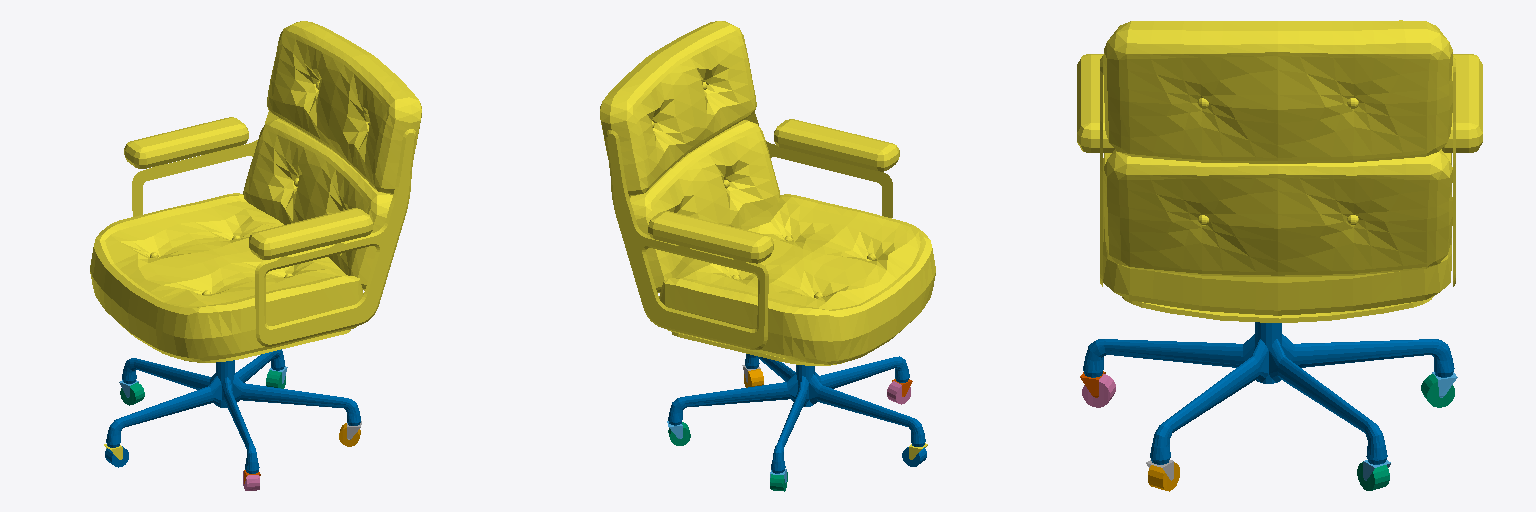
The robot description file, URDF, robot "partnet_60cbc688b57f8b5446407779dbd69b2d":
<?xml version="1.0" encoding="utf-8"?>
<robot name="partnet_60cbc688b57f8b5446407779dbd69b2d">
 <link name="base"/>
 <link name="link_0">
  <visual name="caster_yoke-34">
   <origin xyz="0.48027050000000004 0 -0.3712065"/>
   <geometry>
    <mesh filename="textured_objs/original-9.obj"/>
   </geometry>
  </visual>
  <collision>
   <geometry>
    <mesh filename="cvx_objs/link_0.obj"/>
   </geometry>
  </collision>
 </link>
 <joint name="joint_0" type="continuous">
  <origin xyz="-0.48027050000000004 0 0.3712065"/>
  <axis xyz="0 1 0"/>
  <child link="link_0"/>
  <parent link="link_11"/>
 </joint>
 <link name="link_1">
  <visual name="wheel-35">
   <origin xyz="0.5257931586547613 0.7801555 -0.17527927410023608"/>
   <geometry>
    <mesh filename="textured_objs/original-15.obj"/>
   </geometry>
  </visual>
  <collision>
   <geometry>
    <mesh filename="cvx_objs/link_1.obj"/>
   </geometry>
  </collision>
 </link>
 <joint name="joint_1" type="continuous">
  <origin xyz="-0.04552265865476124 -0.7801555 -0.1959272258997639"/>
  <axis xyz="0.3162519565277374 0 0.9486752342041918"/>
  <child link="link_1"/>
  <parent link="link_0"/>
 </joint>
 <link name="link_2">
  <visual name="caster_yoke-32">
   <origin xyz="-0.0190925 0 -0.7339635"/>
   <geometry>
    <mesh filename="textured_objs/original-7.obj"/>
   </geometry>
  </visual>
  <collision>
   <geometry>
    <mesh filename="cvx_objs/link_2.obj"/>
   </geometry>
  </collision>
 </link>
 <joint name="joint_2" type="continuous">
  <origin xyz="0.0190925 0 0.7339635"/>
  <axis xyz="0 1 0"/>
  <child link="link_2"/>
  <parent link="link_11"/>
 </joint>
 <link name="link_3">
  <visual name="wheel-33">
   <origin xyz="0 0.7801555 -0.7152263333333334"/>
   <geometry>
    <mesh filename="textured_objs/original-13.obj"/>
   </geometry>
  </visual>
  <collision>
   <geometry>
    <mesh filename="cvx_objs/link_3.obj"/>
   </geometry>
  </collision>
 </link>
 <joint name="joint_3" type="continuous">
  <origin xyz="-0.0190925 -0.7801555 -0.018737166666666583"/>
  <axis xyz="1 0 0"/>
  <child link="link_3"/>
  <parent link="link_2"/>
 </joint>
 <link name="link_4">
  <visual name="caster_yoke-30">
   <origin xyz="-0.5184555 0 -0.3712065"/>
   <geometry>
    <mesh filename="textured_objs/original-6.obj"/>
   </geometry>
  </visual>
  <collision>
   <geometry>
    <mesh filename="cvx_objs/link_4.obj"/>
   </geometry>
  </collision>
 </link>
 <joint name="joint_4" type="continuous">
  <origin xyz="0.5184555 0 0.3712065"/>
  <axis xyz="0 1 0"/>
  <child link="link_4"/>
  <parent link="link_11"/>
 </joint>
 <link name="link_5">
  <visual name="wheel-31">
   <origin xyz="-0.55944573511464 0.7801555 -0.20343125653185784"/>
   <geometry>
    <mesh filename="textured_objs/original-12.obj"/>
   </geometry>
  </visual>
  <collision>
   <geometry>
    <mesh filename="cvx_objs/link_5.obj"/>
   </geometry>
  </collision>
 </link>
 <joint name="joint_5" type="continuous">
  <origin xyz="0.04099023511464006 -0.7801555 -0.16777524346814215"/>
  <axis xyz="-0.3417378156530522 0 0.9397953316295419"/>
  <child link="link_5"/>
  <parent link="link_4"/>
 </joint>
 <link name="link_6">
  <visual name="caster_yoke-28">
   <origin xyz="-0.32759950000000004 0 0.215742"/>
   <geometry>
    <mesh filename="textured_objs/original-5.obj"/>
   </geometry>
  </visual>
  <collision>
   <geometry>
    <mesh filename="cvx_objs/link_6.obj"/>
   </geometry>
  </collision>
 </link>
 <joint name="joint_6" type="continuous">
  <origin xyz="0.32759950000000004 0 -0.215742"/>
  <axis xyz="0 -1 0"/>
  <child link="link_6"/>
  <parent link="link_11"/>
 </joint>
 <link name="link_7">
  <visual name="wheel-29">
   <origin xyz="-0.19815466499483309 0.7801555 0.2830595426991834"/>
   <geometry>
    <mesh filename="textured_objs/original-11.obj"/>
   </geometry>
  </visual>
  <collision>
   <geometry>
    <mesh filename="cvx_objs/link_7.obj"/>
   </geometry>
  </collision>
 </link>
 <joint name="joint_7" type="continuous">
  <origin xyz="-0.12944483500516696 -0.7801555 -0.06731754269918339"/>
  <axis xyz="0.8192142549334103 0 0.5734875800868733"/>
  <child link="link_7"/>
  <parent link="link_6"/>
 </joint>
 <link name="link_8">
  <visual name="caster_yoke-26">
   <origin xyz="0.289415 0 0.2157415"/>
   <geometry>
    <mesh filename="textured_objs/original-8.obj"/>
   </geometry>
  </visual>
  <collision>
   <geometry>
    <mesh filename="cvx_objs/link_8.obj"/>
   </geometry>
  </collision>
 </link>
 <joint name="joint_8" type="continuous">
  <origin xyz="-0.289415 0 -0.2157415"/>
  <axis xyz="0 1 0"/>
  <child link="link_8"/>
  <parent link="link_11"/>
 </joint>
 <link name="link_9">
  <visual name="wheel-27">
   <origin xyz="0.18559607655404697 0.7801555 0.2651198777355104"/>
   <geometry>
    <mesh filename="textured_objs/original-14.obj"/>
   </geometry>
  </visual>
  <collision>
   <geometry>
    <mesh filename="cvx_objs/link_9.obj"/>
   </geometry>
  </collision>
 </link>
 <joint name="joint_9" type="continuous">
  <origin xyz="0.103818923445953 -0.7801555 -0.049378377735510376"/>
  <axis xyz="-0.8192142549334103 0 0.5734875800868733"/>
  <child link="link_9"/>
  <parent link="link_8"/>
 </joint>
 <link name="link_10">
  <visual name="back_soft_surface-60">
   <origin xyz="-0.020933812819421298 0 -0.20918040860444298"/>
   <geometry>
    <mesh filename="textured_objs/original-37.obj"/>
   </geometry>
  </visual>
  <visual name="back_soft_surface-60">
   <origin xyz="-0.020933812819421298 0 -0.20918040860444298"/>
   <geometry>
    <mesh filename="textured_objs/original-25.obj"/>
   </geometry>
  </visual>
  <visual name="back_soft_surface-60">
   <origin xyz="-0.020933812819421298 0 -0.20918040860444298"/>
   <geometry>
    <mesh filename="textured_objs/original-24.obj"/>
   </geometry>
  </visual>
  <visual name="back_soft_surface-60">
   <origin xyz="-0.020933812819421298 0 -0.20918040860444298"/>
   <geometry>
    <mesh filename="textured_objs/original-35.obj"/>
   </geometry>
  </visual>
  <visual name="back_soft_surface-60">
   <origin xyz="-0.020933812819421298 0 -0.20918040860444298"/>
   <geometry>
    <mesh filename="textured_objs/original-31.obj"/>
   </geometry>
  </visual>
  <visual name="back_soft_surface-60">
   <origin xyz="-0.020933812819421298 0 -0.20918040860444298"/>
   <geometry>
    <mesh filename="textured_objs/original-32.obj"/>
   </geometry>
  </visual>
  <visual name="other_leaf-62">
   <origin xyz="-0.020933812819421298 0 -0.20918040860444298"/>
   <geometry>
    <mesh filename="textured_objs/original-36.obj"/>
   </geometry>
  </visual>
  <visual name="other_leaf-63">
   <origin xyz="-0.020933812819421298 0 -0.20918040860444298"/>
   <geometry>
    <mesh filename="textured_objs/original-30.obj"/>
   </geometry>
  </visual>
  <visual name="other_leaf-64">
   <origin xyz="-0.020933812819421298 0 -0.20918040860444298"/>
   <geometry>
    <mesh filename="textured_objs/original-34.obj"/>
   </geometry>
  </visual>
  <visual name="other_leaf-65">
   <origin xyz="-0.020933812819421298 0 -0.20918040860444298"/>
   <geometry>
    <mesh filename="textured_objs/original-33.obj"/>
   </geometry>
  </visual>
  <visual name="back_frame_vertical_bar-58">
   <origin xyz="-0.020933812819421298 0 -0.20918040860444298"/>
   <geometry>
    <mesh filename="textured_objs/new-10.obj"/>
   </geometry>
  </visual>
  <visual name="back_frame_vertical_bar-59">
   <origin xyz="-0.020933812819421298 0 -0.20918040860444298"/>
   <geometry>
    <mesh filename="textured_objs/new-8.obj"/>
   </geometry>
  </visual>
  <visual name="armrest_hard_surface-50">
   <origin xyz="-0.020933812819421298 0 -0.20918040860444298"/>
   <geometry>
    <mesh filename="textured_objs/new-12.obj"/>
   </geometry>
  </visual>
  <visual name="arm_holistic_frame-51">
   <origin xyz="-0.020933812819421298 0 -0.20918040860444298"/>
   <geometry>
    <mesh filename="textured_objs/new-9.obj"/>
   </geometry>
  </visual>
  <visual name="arm_connector-52">
   <origin xyz="-0.020933812819421298 0 -0.20918040860444298"/>
   <geometry>
    <mesh filename="textured_objs/new-11.obj"/>
   </geometry>
  </visual>
  <visual name="arm_connector-53">
   <origin xyz="-0.020933812819421298 0 -0.20918040860444298"/>
   <geometry>
    <mesh filename="textured_objs/original-40.obj"/>
   </geometry>
  </visual>
  <visual name="arm_holistic_frame-48">
   <origin xyz="-0.020933812819421298 0 -0.20918040860444298"/>
   <geometry>
    <mesh filename="textured_objs/new-7.obj"/>
   </geometry>
  </visual>
  <visual name="armrest_hard_surface-49">
   <origin xyz="-0.020933812819421298 0 -0.20918040860444298"/>
   <geometry>
    <mesh filename="textured_objs/original-38.obj"/>
   </geometry>
  </visual>
  <visual name="arm_connector-54">
   <origin xyz="-0.020933812819421298 0 -0.20918040860444298"/>
   <geometry>
    <mesh filename="textured_objs/original-19.obj"/>
   </geometry>
  </visual>
  <visual name="arm_connector-55">
   <origin xyz="-0.020933812819421298 0 -0.20918040860444298"/>
   <geometry>
    <mesh filename="textured_objs/original-21.obj"/>
   </geometry>
  </visual>
  <visual name="seat_soft_surface-40">
   <origin xyz="-0.020933812819421298 0 -0.20918040860444298"/>
   <geometry>
    <mesh filename="textured_objs/original-20.obj"/>
   </geometry>
  </visual>
  <visual name="other_leaf-42">
   <origin xyz="-0.020933812819421298 0 -0.20918040860444298"/>
   <geometry>
    <mesh filename="textured_objs/original-27.obj"/>
   </geometry>
  </visual>
  <visual name="other_leaf-43">
   <origin xyz="-0.020933812819421298 0 -0.20918040860444298"/>
   <geometry>
    <mesh filename="textured_objs/original-28.obj"/>
   </geometry>
  </visual>
  <visual name="other_leaf-44">
   <origin xyz="-0.020933812819421298 0 -0.20918040860444298"/>
   <geometry>
    <mesh filename="textured_objs/original-26.obj"/>
   </geometry>
  </visual>
  <visual name="other_leaf-45">
   <origin xyz="-0.020933812819421298 0 -0.20918040860444298"/>
   <geometry>
    <mesh filename="textured_objs/original-29.obj"/>
   </geometry>
  </visual>
  <visual name="seat_support-39">
   <origin xyz="-0.020933812819421298 0 -0.20918040860444298"/>
   <geometry>
    <mesh filename="textured_objs/original-22.obj"/>
   </geometry>
  </visual>
  <visual name="central_support-36">
   <origin xyz="-0.020933812819421298 0 -0.20918040860444298"/>
   <geometry>
    <mesh filename="textured_objs/original-4.obj"/>
   </geometry>
  </visual>
  <visual name="mounting_plate-67">
   <origin xyz="-0.020933812819421298 0 -0.20918040860444298"/>
   <geometry>
    <mesh filename="textured_objs/original-23.obj"/>
   </geometry>
  </visual>
  <collision>
   <geometry>
    <mesh filename="cvx_objs/link_10.obj"/>
   </geometry>
  </collision>
 </link>
 <joint name="joint_10" type="continuous">
  <origin xyz="0.0 0 0.0"/>
  <axis xyz="0 1 0"/>
  <child link="link_10"/>
  <parent link="link_10_helper"/>
 </joint>
 <link name="link_11">
  <visual name="central_support-37">
   <origin xyz="0 0 0"/>
   <geometry>
    <mesh filename="textured_objs/new-3.obj"/>
   </geometry>
  </visual>
  <visual name="foot-13">
   <origin xyz="0 0 0"/>
   <geometry>
    <mesh filename="textured_objs/new-4.obj"/>
   </geometry>
  </visual>
  <visual name="foot-13">
   <origin xyz="0 0 0"/>
   <geometry>
    <mesh filename="textured_objs/new-13.obj"/>
   </geometry>
  </visual>
  <visual name="foot-14">
   <origin xyz="0 0 0"/>
   <geometry>
    <mesh filename="textured_objs/new-14.obj"/>
   </geometry>
  </visual>
  <visual name="foot-14">
   <origin xyz="0 0 0"/>
   <geometry>
    <mesh filename="textured_objs/new-5.obj"/>
   </geometry>
  </visual>
  <visual name="foot-15">
   <origin xyz="0 0 0"/>
   <geometry>
    <mesh filename="textured_objs/new-1.obj"/>
   </geometry>
  </visual>
  <visual name="foot-16">
   <origin xyz="0 0 0"/>
   <geometry>
    <mesh filename="textured_objs/new-2.obj"/>
   </geometry>
  </visual>
  <visual name="foot-17">
   <origin xyz="0 0 0"/>
   <geometry>
    <mesh filename="textured_objs/new-0.obj"/>
   </geometry>
  </visual>
  <collision>
   <geometry>
    <mesh filename="cvx_objs/link_11.obj"/>
   </geometry>
  </collision>
 </link>
 <joint name="joint_11" type="fixed">
  <origin rpy="1.570796326794897 0 -1.570796326794897" xyz="0 0 0"/>
  <child link="link_11"/>
  <parent link="base"/>
 </joint>
 <link name="link_10_helper"/>
 <joint name="joint_12" type="prismatic">
  <origin xyz="0.020933812819421298 0 0.20918040860444298"/>
  <axis xyz="0 -1 0"/>
  <child link="link_10_helper"/>
  <parent link="link_11"/>
  <limit lower="0" upper="0.052000000000000046"/>
 </joint>
</robot>

--- Render facts (derived) ---
3 views of the same robot in one strip: view 1: azimuth 30°, elevation 25°; view 2: azimuth 150°, elevation 25°; view 3: azimuth 270°, elevation 25° (orthographic).
Model partnet_60cbc688b57f8b5446407779dbd69b2d with 14 links and 13 joints (11 continuous, 1 prismatic, 1 fixed), rooted at base, posed all joints at 0.
Links seen in each view (by area): view 1: link_10, link_11; view 2: link_10, link_11; view 3: link_10, link_11, link_1, link_5, link_7, link_9.
Link boxes in pixels (left/top/right/bottom): link_10: left=90, top=21, right=421, bottom=362; link_11: left=106, top=349, right=360, bottom=473; link_10: left=600, top=21, right=935, bottom=365; link_11: left=668, top=354, right=925, bottom=473; link_10: left=1077, top=20, right=1482, bottom=322; link_11: left=1083, top=322, right=1454, bottom=464; link_1: left=1421, top=374, right=1454, bottom=407; link_5: left=1082, top=374, right=1115, bottom=407; link_7: left=1148, top=462, right=1179, bottom=491; link_9: left=1357, top=462, right=1389, bottom=490.
Size in the robot's own frame: 1.28 by 1.15 by 1.55 metres.
46 mesh visuals loaded from 46 distinct referenced files (46 OBJ).
